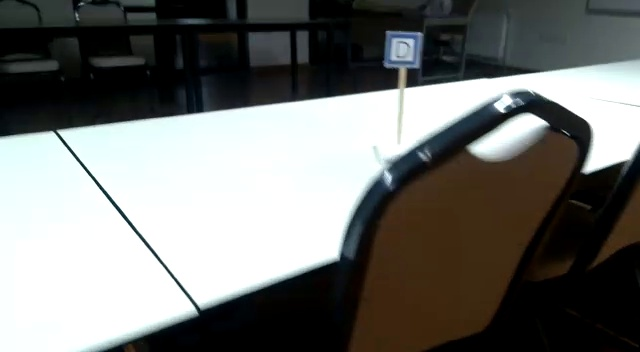durak: (384, 33, 419, 68)
